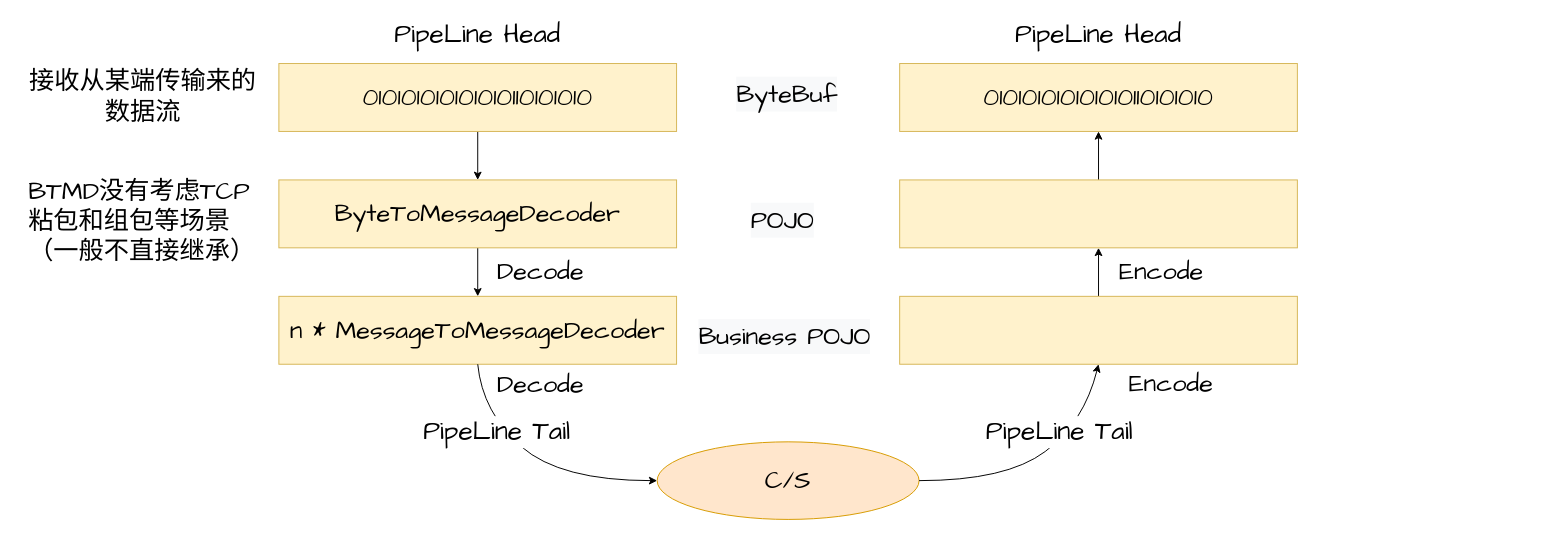
Some shapes in this 1556 by 555 pixel diagram are drawn without their labels. Here are the shapes that lost their labels. From the top down, the centre of each, then its label:
the point at 1098,213: ByteToMessageEncoder
the point at 1098,329: n * MessageToMessageEncoder
